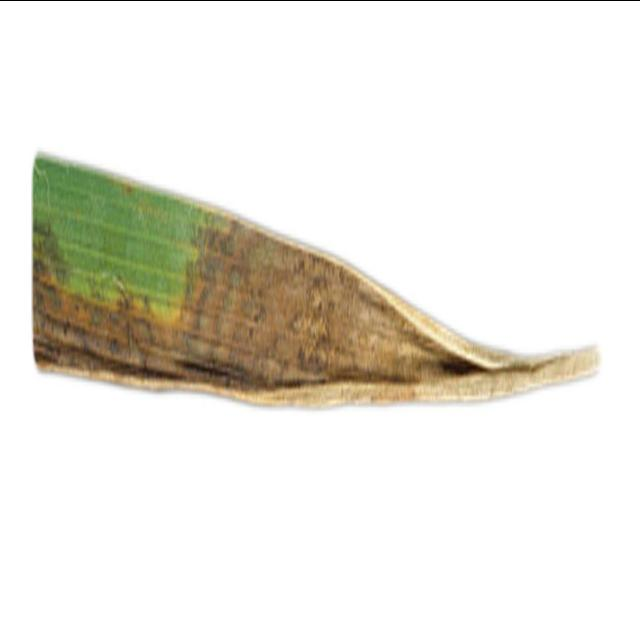Leaf scald: (1, 112, 610, 450)
